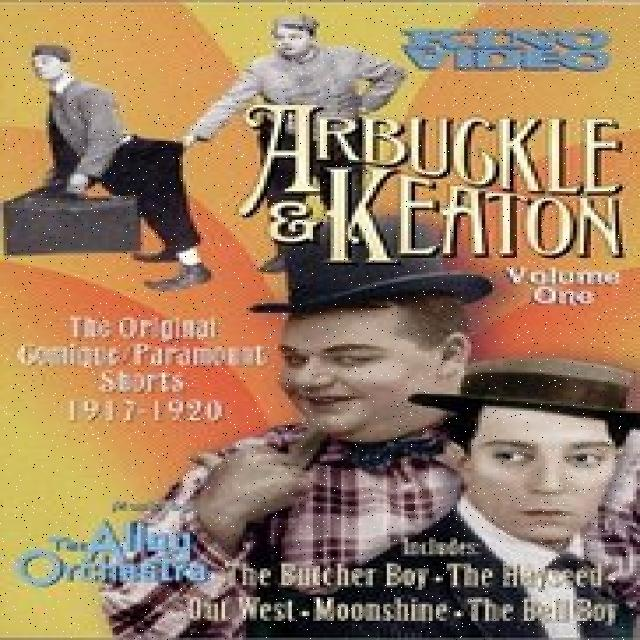movie-judul: (240, 101, 637, 267)
picture: (105, 220, 634, 634), (0, 12, 408, 282)
